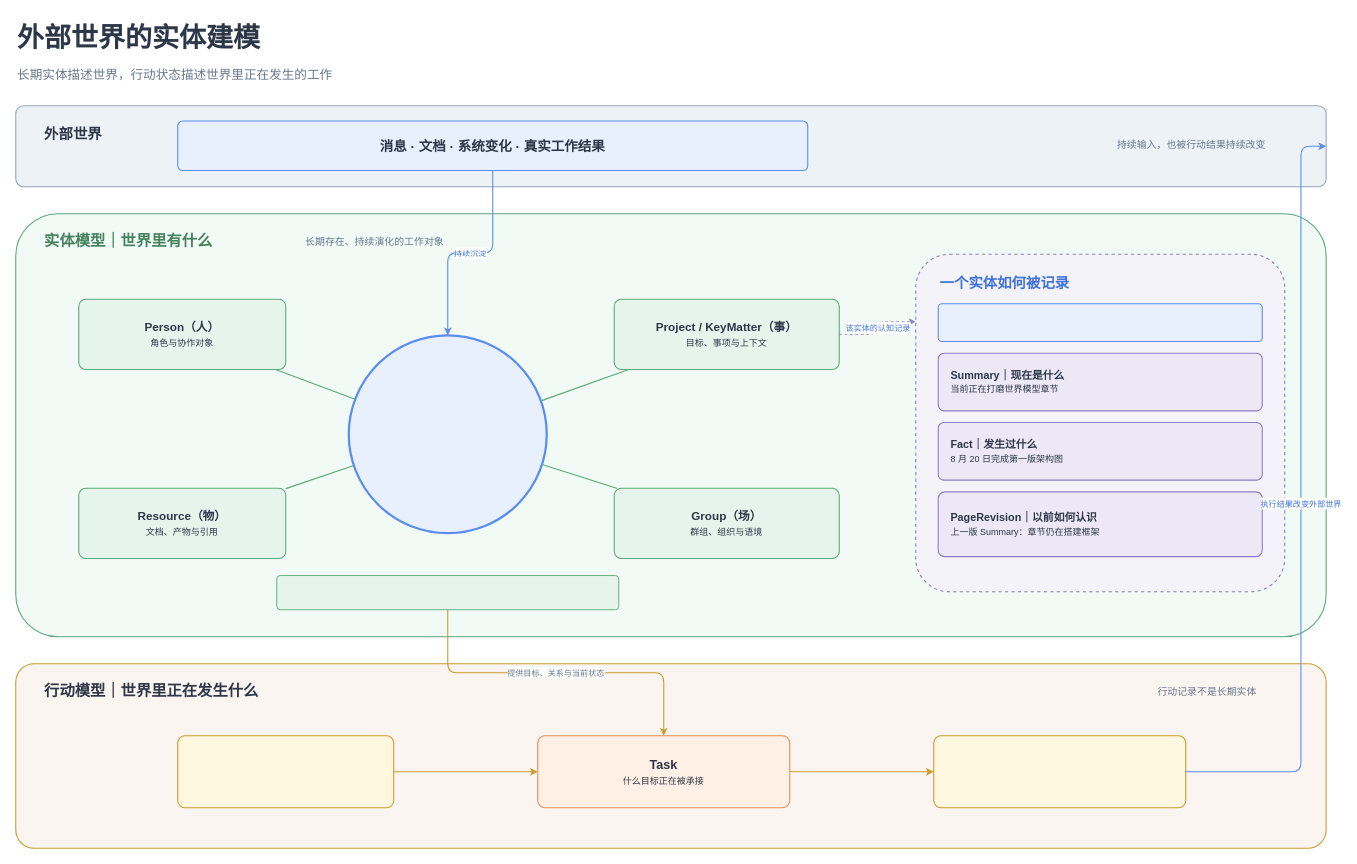
Some shapes in this 1357 by 864 pixel diagram are drawn without their labels. The centre of each missing label's shape, as x and y in pixels:
"ExecutionRun 某次执行产生了什么结果" belongs at point 1059,771.
"Todo 发现了什么" belongs at point 285,771.
"关系：角色 · 归属 · 协作 · 引用 · 语境" belongs at point 447,592.
"实体：Project「Jarvis」" belongs at point 1099,322.
"认知中枢 Principal（我） Jarvis 持续理解工作世界" belongs at point 447,434.
